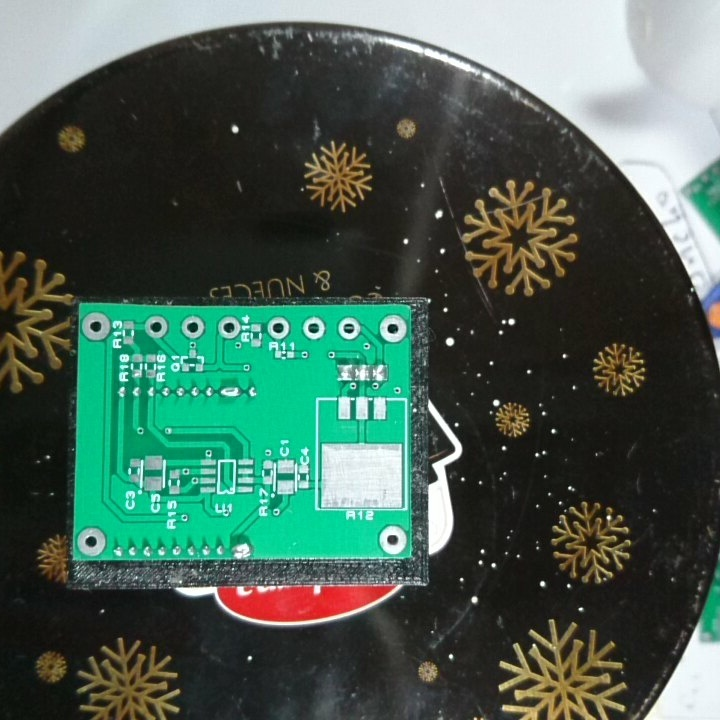F: (75, 524, 110, 558), (376, 312, 409, 346), (80, 310, 112, 343), (376, 524, 409, 556), (334, 315, 364, 343), (179, 313, 208, 341), (214, 314, 242, 343), (263, 315, 294, 340), (299, 315, 328, 340), (143, 314, 169, 339)
P: (228, 539, 254, 559), (217, 383, 240, 401)
